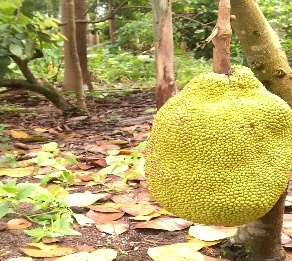Mit: (152, 67, 286, 220)
